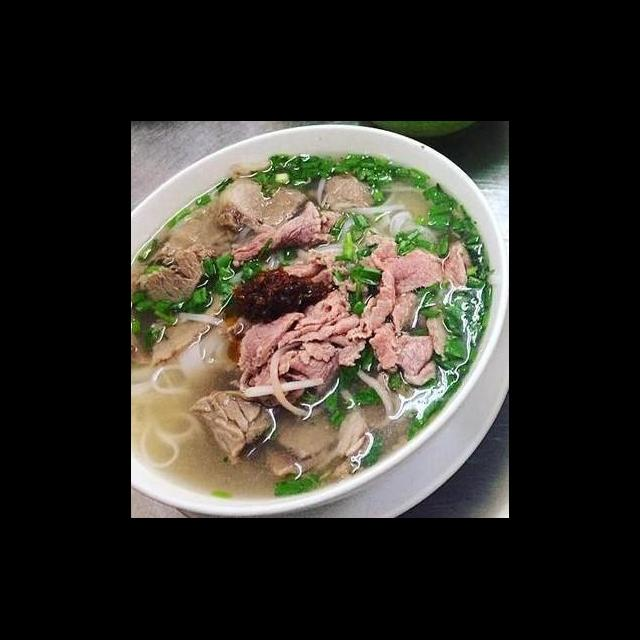banh pho: (132, 312, 245, 473), (313, 180, 442, 262)
pho bo: (132, 150, 509, 513)
thit bo: (132, 175, 313, 314), (307, 228, 423, 338), (132, 268, 239, 372), (327, 238, 474, 300), (321, 266, 401, 374), (226, 198, 341, 270), (189, 386, 279, 472), (233, 304, 307, 404), (274, 286, 364, 356), (366, 320, 443, 390), (275, 340, 347, 400)
